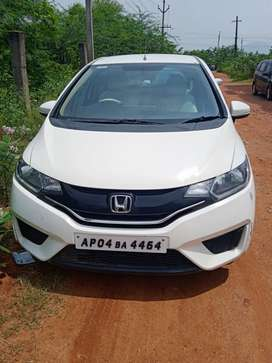AP04BA4464: (76, 233, 169, 253)
